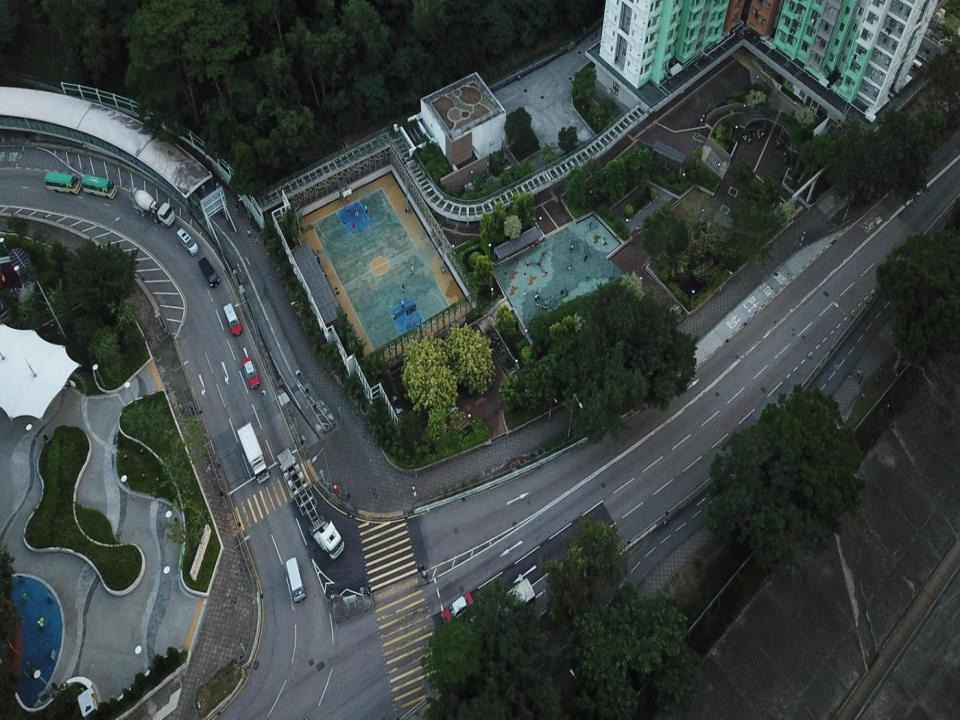bus: (465, 577, 535, 636)
car: (441, 591, 473, 623), (176, 227, 200, 256), (242, 357, 261, 390)
truck: (276, 448, 344, 559), (236, 422, 270, 483), (129, 186, 175, 228)
van: (285, 557, 306, 602), (44, 170, 81, 194), (81, 175, 116, 199), (199, 257, 219, 288), (224, 304, 242, 336)
